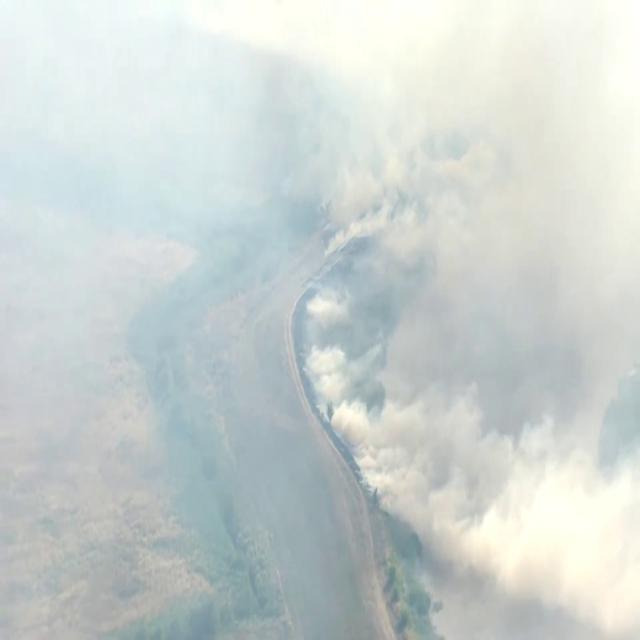Smoke: (405, 153, 593, 428), (443, 402, 584, 556), (376, 393, 475, 529)
